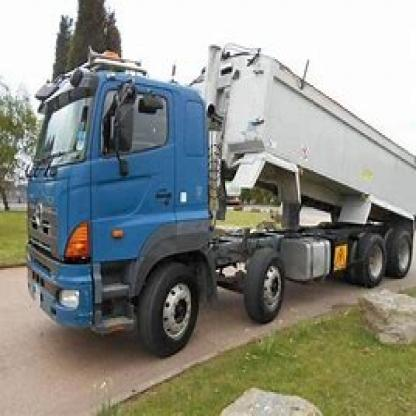dump_truck: (26, 22, 414, 361)
